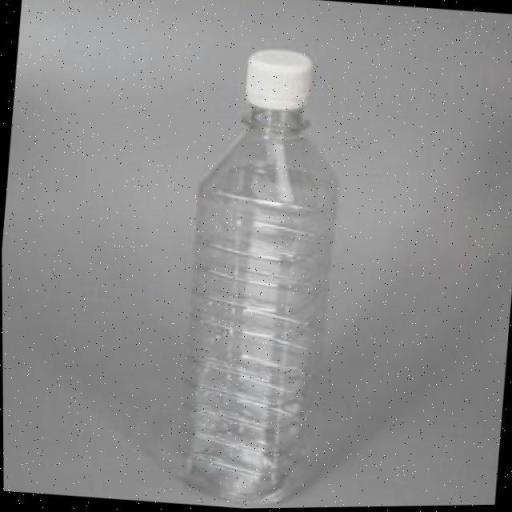plastic: (138, 22, 386, 510)
